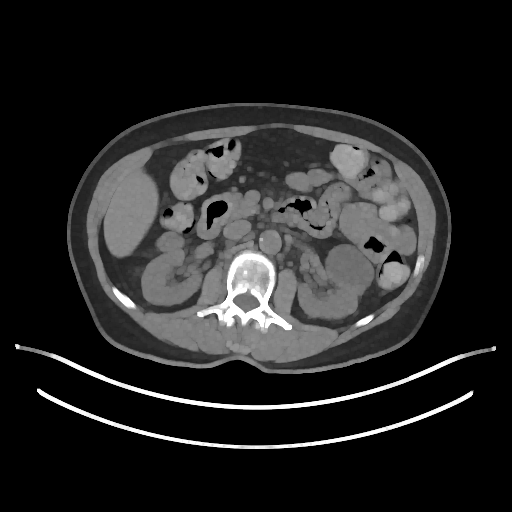Lesion: (321, 236, 374, 294)
